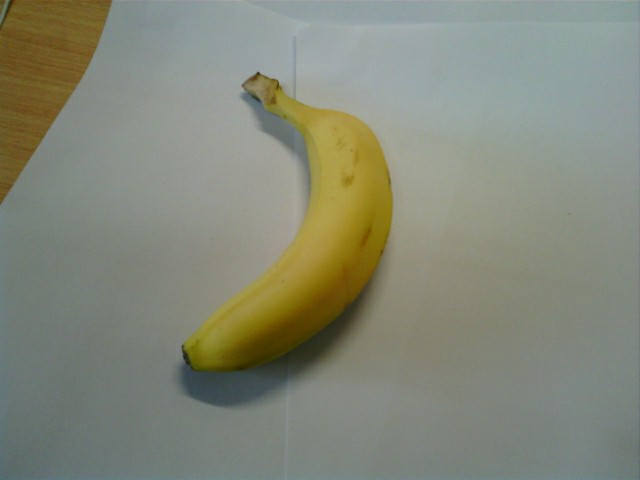fresh_banana: (180, 97, 393, 374)
